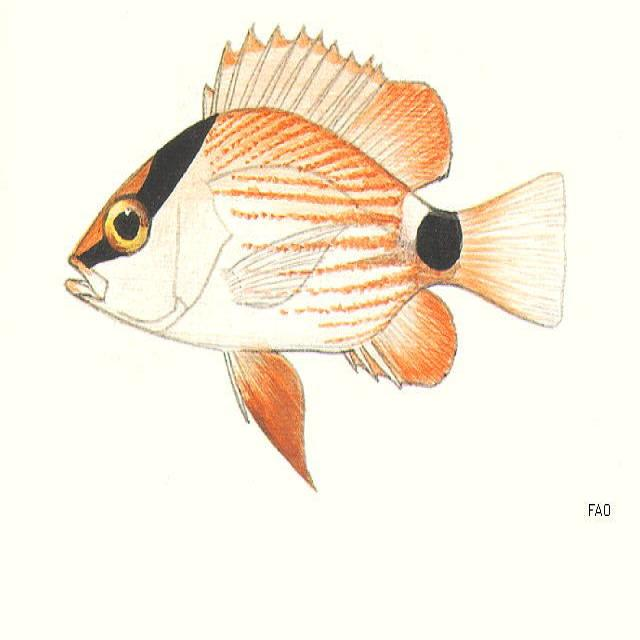ikan: (63, 21, 567, 491)
